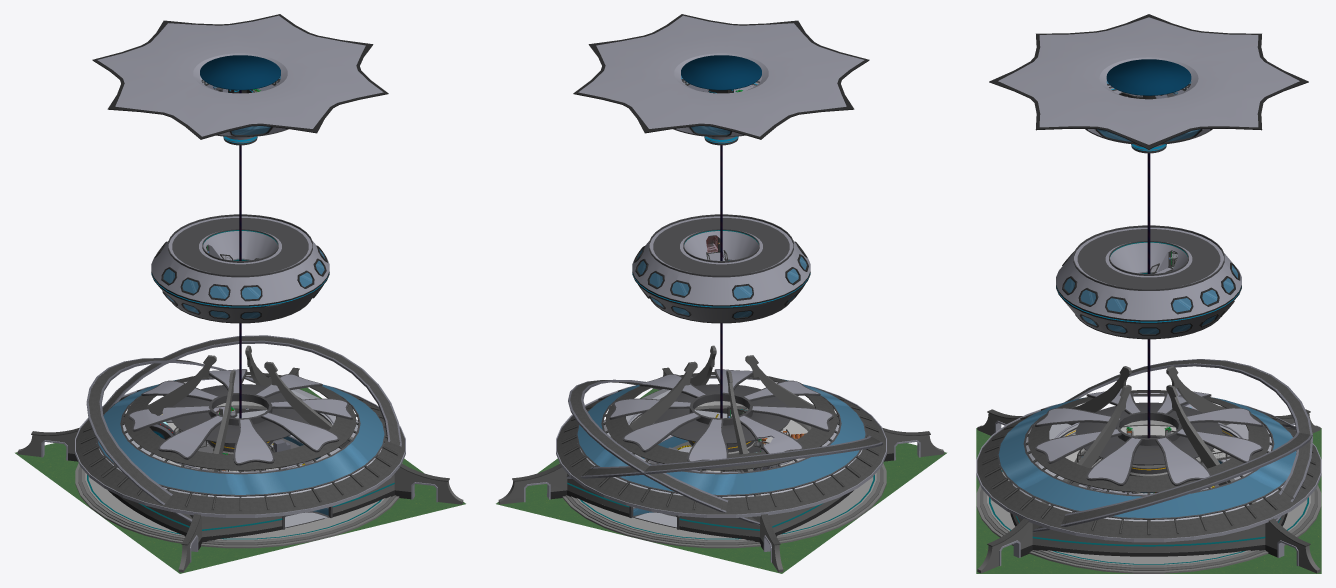
Rendered from space-elevator-model.gltf.
3 renders of one model, left to right at view 1: azimuth 30°, elevation 25°; view 2: azimuth 150°, elevation 25°; view 3: azimuth 270°, elevation 25°, orthographic. The views are drawn at different scales.
Visible parts, largest first — view 1: roof.rings, spaceStation.roof.star, midway.base, base.roof.rings.angled.002, arches.main, ground.grass, squircle.walls, floor.00.circle.47u.001, spaceStation.center, midway.base.019, floor.00.circle.48u.001, tether (+1 smaller); view 2: roof.rings, spaceStation.roof.star, midway.base, base.roof.rings.angled.002, arches.main, ground.grass, squircle.walls, floor.00.circle.47u.001, spaceStation.center, midway.base.019, floor.00.circle.48u.001, tether (+1 smaller); view 3: roof.rings, spaceStation.roof.star, midway.base, arches.main, base.roof.rings.angled.002, squircle.walls, ground.grass, floor.00.circle.47u.001, midway.base.019, spaceStation.center, floor.00.circle.48u.001, tether (+5 smaller).
Part boxes in pixels (x1,y1,x2,y2): roof.rings: (75, 369, 405, 517); spaceStation.roof.star: (92, 14, 388, 139); midway.base: (151, 214, 329, 323); base.roof.rings.angled.002: (86, 335, 401, 522); arches.main: (17, 345, 463, 572); ground.grass: (15, 387, 465, 573); squircle.walls: (96, 389, 394, 542); floor.00.circle.47u.001: (78, 466, 396, 545); spaceStation.center: (200, 55, 280, 90); midway.base.019: (154, 241, 327, 319); floor.00.circle.48u.001: (75, 443, 402, 548); tether: (239, 90, 241, 418); roof.rings: (556, 369, 886, 517); spaceStation.roof.star: (573, 14, 869, 139); midway.base: (632, 214, 810, 323); base.roof.rings.angled.002: (567, 379, 882, 525); arches.main: (498, 345, 944, 572); ground.grass: (496, 388, 946, 573); squircle.walls: (567, 389, 862, 542); floor.00.circle.47u.001: (565, 466, 883, 545); spaceStation.center: (681, 55, 761, 90); midway.base.019: (634, 240, 808, 319); floor.00.circle.48u.001: (559, 443, 886, 548); tether: (720, 145, 722, 418); roof.rings: (976, 388, 1321, 542); spaceStation.roof.star: (989, 14, 1308, 149); midway.base: (1056, 225, 1241, 339); arches.main: (977, 366, 1320, 573); base.roof.rings.angled.002: (1032, 359, 1312, 532); squircle.walls: (1009, 420, 1287, 556); ground.grass: (976, 428, 1321, 573); floor.00.circle.47u.001: (980, 469, 1317, 570); midway.base.019: (1062, 251, 1240, 335); spaceStation.center: (1106, 59, 1191, 95); floor.00.circle.48u.001: (976, 464, 1321, 573); tether: (1147, 153, 1150, 438).
Size of what is drawn, in the model's own units: 48 by 65.05 by 48.
Materials: 23 (20 with a texture image).
